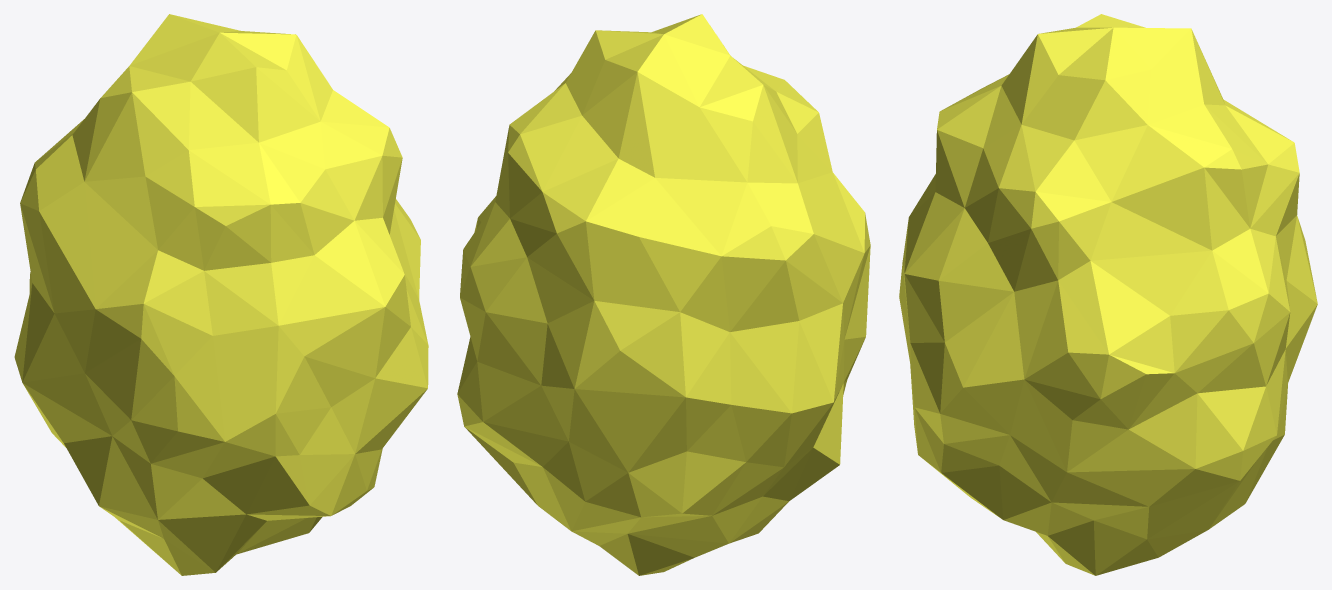
File: yellowTop.glb
3 renders of one model, left to right at view 1: azimuth 30°, elevation 25°; view 2: azimuth 150°, elevation 25°; view 3: azimuth 270°, elevation 25°, orthographic.
Visible parts, largest first — view 1: topYellow; view 2: topYellow; view 3: topYellow.
Part boxes in pixels (box(x1,y1,x2,y2)): topYellow: box(14, 14, 428, 575); topYellow: box(457, 14, 870, 575); topYellow: box(899, 14, 1317, 575).
Bounding box in the file's own units: 8.49 × 11.16 × 8.17.
